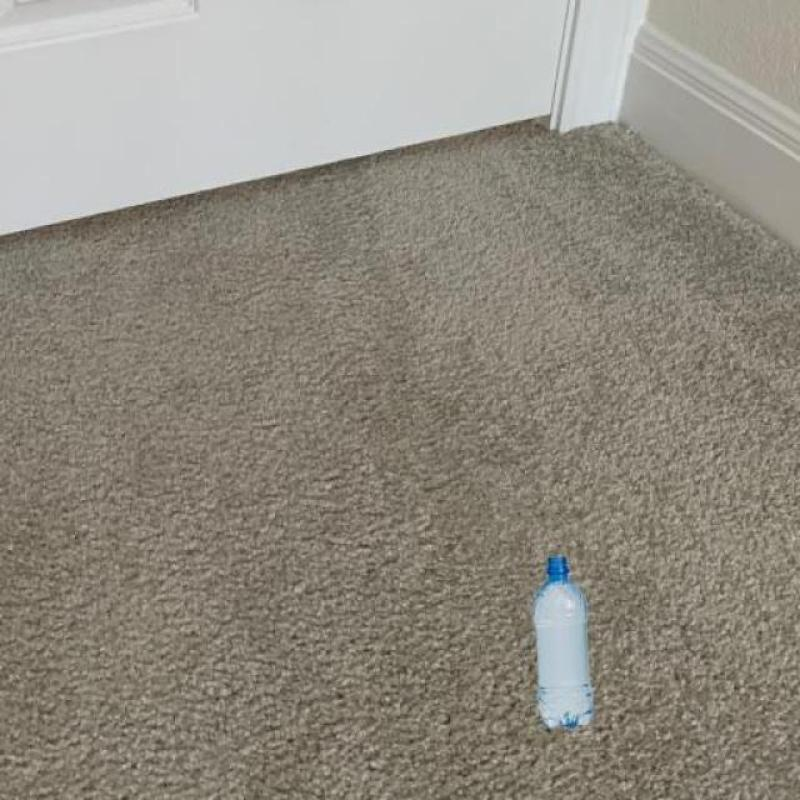botella: (531, 556, 595, 730)
